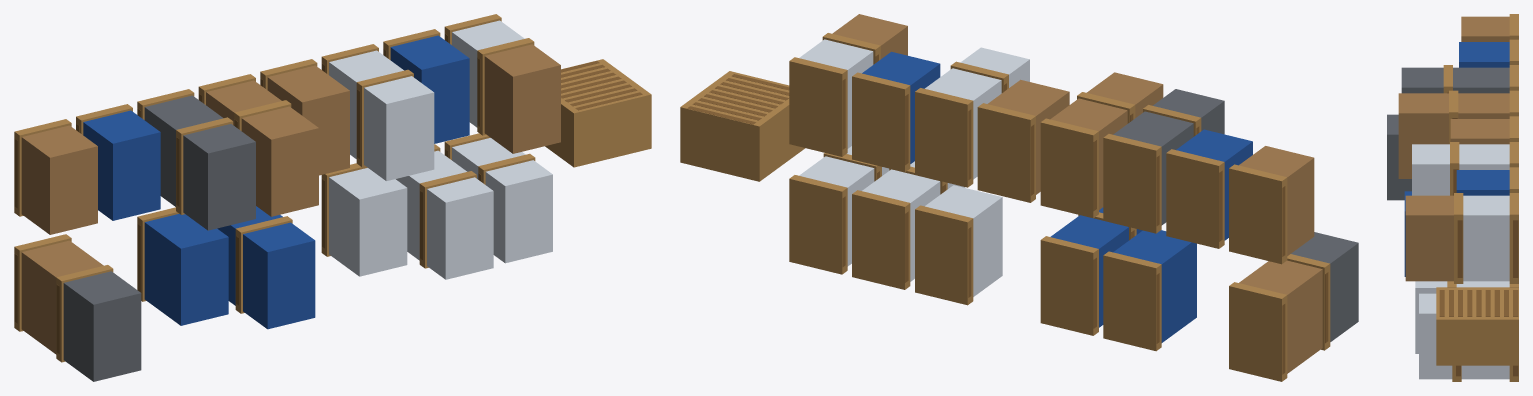
Rendered from block_storage.obj.
3 views of the same model, side by side, from view 1: azimuth 30°, elevation 25°; view 2: azimuth 150°, elevation 25°; view 3: azimuth 270°, elevation 25° (orthographic). The views are drawn at different scales.
Parts seen in each view (by area): view 1: wrap, cardboard, crate_blue, wood, crate_grey, wood_dark; view 2: wood, cardboard, wrap, crate_blue, crate_grey, wood_dark; view 3: cardboard, wrap, wood, crate_grey, crate_blue, wood_dark.
Part boxes in pixels (x1,y1,x2,y2): wrap: [329, 20, 552, 279]; cardboard: [21, 44, 560, 354]; crate_blue: [83, 35, 469, 329]; wood: [14, 14, 651, 362]; crate_grey: [63, 95, 255, 381]; wood_dark: [14, 34, 642, 353]; wood: [680, 33, 1330, 381]; cardboard: [832, 14, 1322, 373]; wrap: [799, 39, 1029, 296]; crate_blue: [862, 51, 1252, 342]; crate_grey: [1113, 89, 1358, 341]; wood_dark: [687, 54, 1328, 374]; cardboard: [1398, 16, 1509, 281]; wrap: [1412, 144, 1509, 379]; wood: [1436, 14, 1518, 381]; crate_grey: [1387, 67, 1509, 200]; crate_blue: [1404, 42, 1509, 276]; wood_dark: [1439, 92, 1518, 376].
Size of the model in its own units: 9.1 by 2.9 by 2.07.
